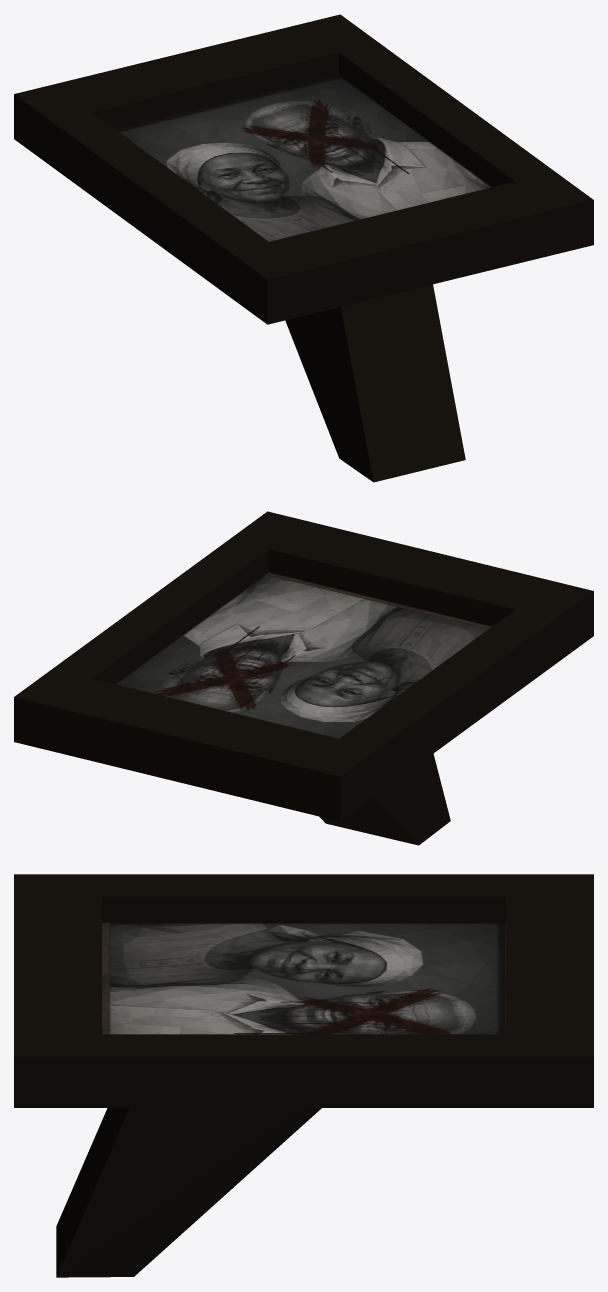
File: Frame.fbx
3 views of the same model, one above another, from view 1: azimuth 30°, elevation 25°; view 2: azimuth 150°, elevation 25°; view 3: azimuth 270°, elevation 25° (orthographic). The views are drawn at different scales.
Parts seen in each view (by area): view 1: Box001; view 2: Box001; view 3: Box001.
Boxes of the visible parts, bbox=[...] form: Box001: bbox=[14, 14, 593, 482]; Box001: bbox=[14, 511, 593, 845]; Box001: bbox=[14, 874, 593, 1277].
Size of the model in its own units: 64.7 by 46.75 by 87.07.
Materials: 2 (1 with a texture image).
